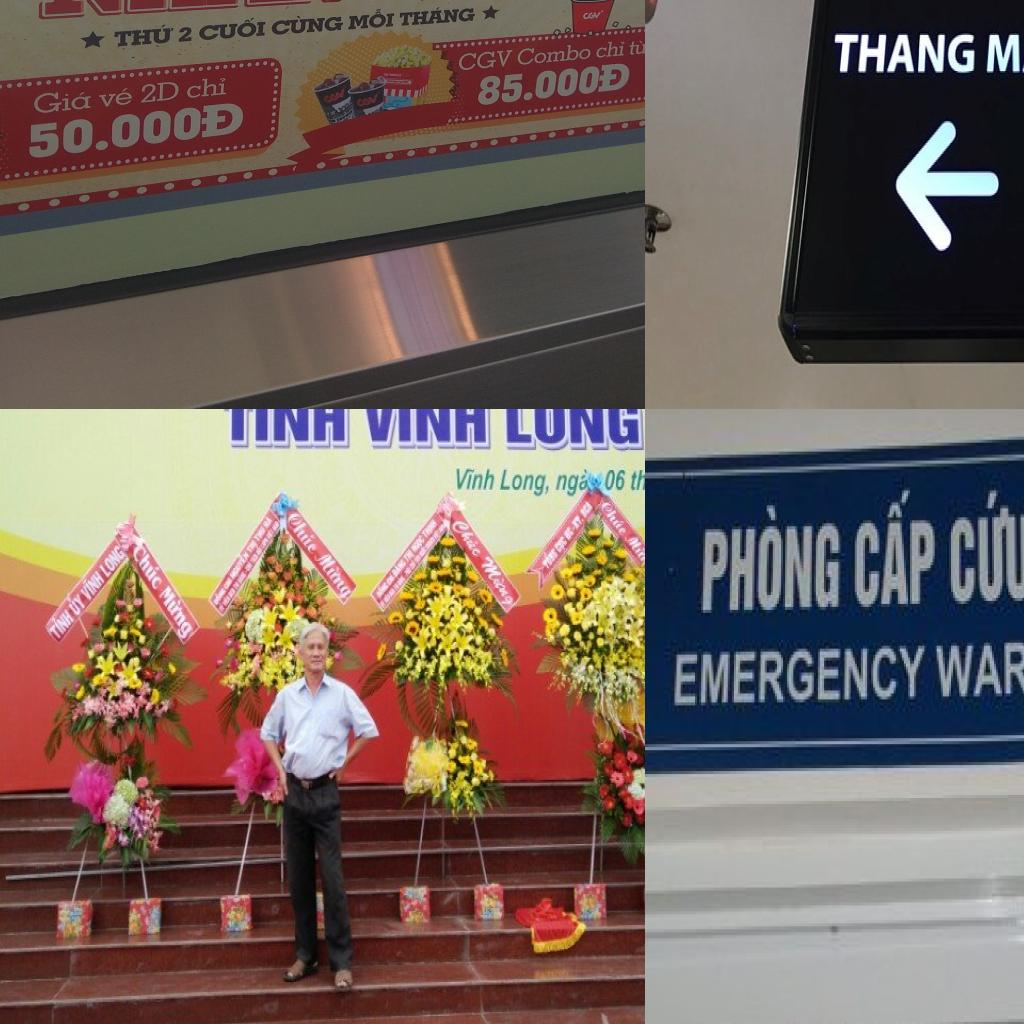text: (666, 637, 926, 717), (699, 505, 845, 622), (24, 98, 245, 159), (848, 490, 940, 616), (942, 490, 1024, 612), (828, 28, 976, 76), (31, 0, 360, 20), (504, 409, 645, 454), (358, 409, 492, 451), (220, 409, 351, 450), (155, 582, 198, 645), (476, 553, 519, 612), (308, 551, 355, 604), (980, 22, 1024, 78), (398, 0, 479, 28), (517, 37, 598, 65), (24, 83, 96, 114), (195, 12, 267, 41), (265, 11, 344, 36), (130, 541, 167, 594), (108, 19, 175, 48), (283, 510, 322, 558), (452, 44, 517, 72), (498, 468, 553, 500), (449, 515, 484, 561), (346, 4, 398, 31), (134, 76, 180, 106), (598, 497, 630, 540), (553, 466, 591, 500), (46, 604, 76, 645), (182, 74, 232, 98), (98, 542, 128, 582), (78, 566, 106, 606), (456, 467, 499, 493), (94, 82, 134, 106), (228, 548, 251, 584), (65, 587, 86, 619), (622, 532, 645, 561), (600, 34, 625, 58), (604, 469, 627, 494), (626, 468, 645, 498), (172, 23, 196, 41), (252, 524, 268, 544), (629, 37, 645, 56), (570, 512, 584, 532), (402, 548, 416, 567)
